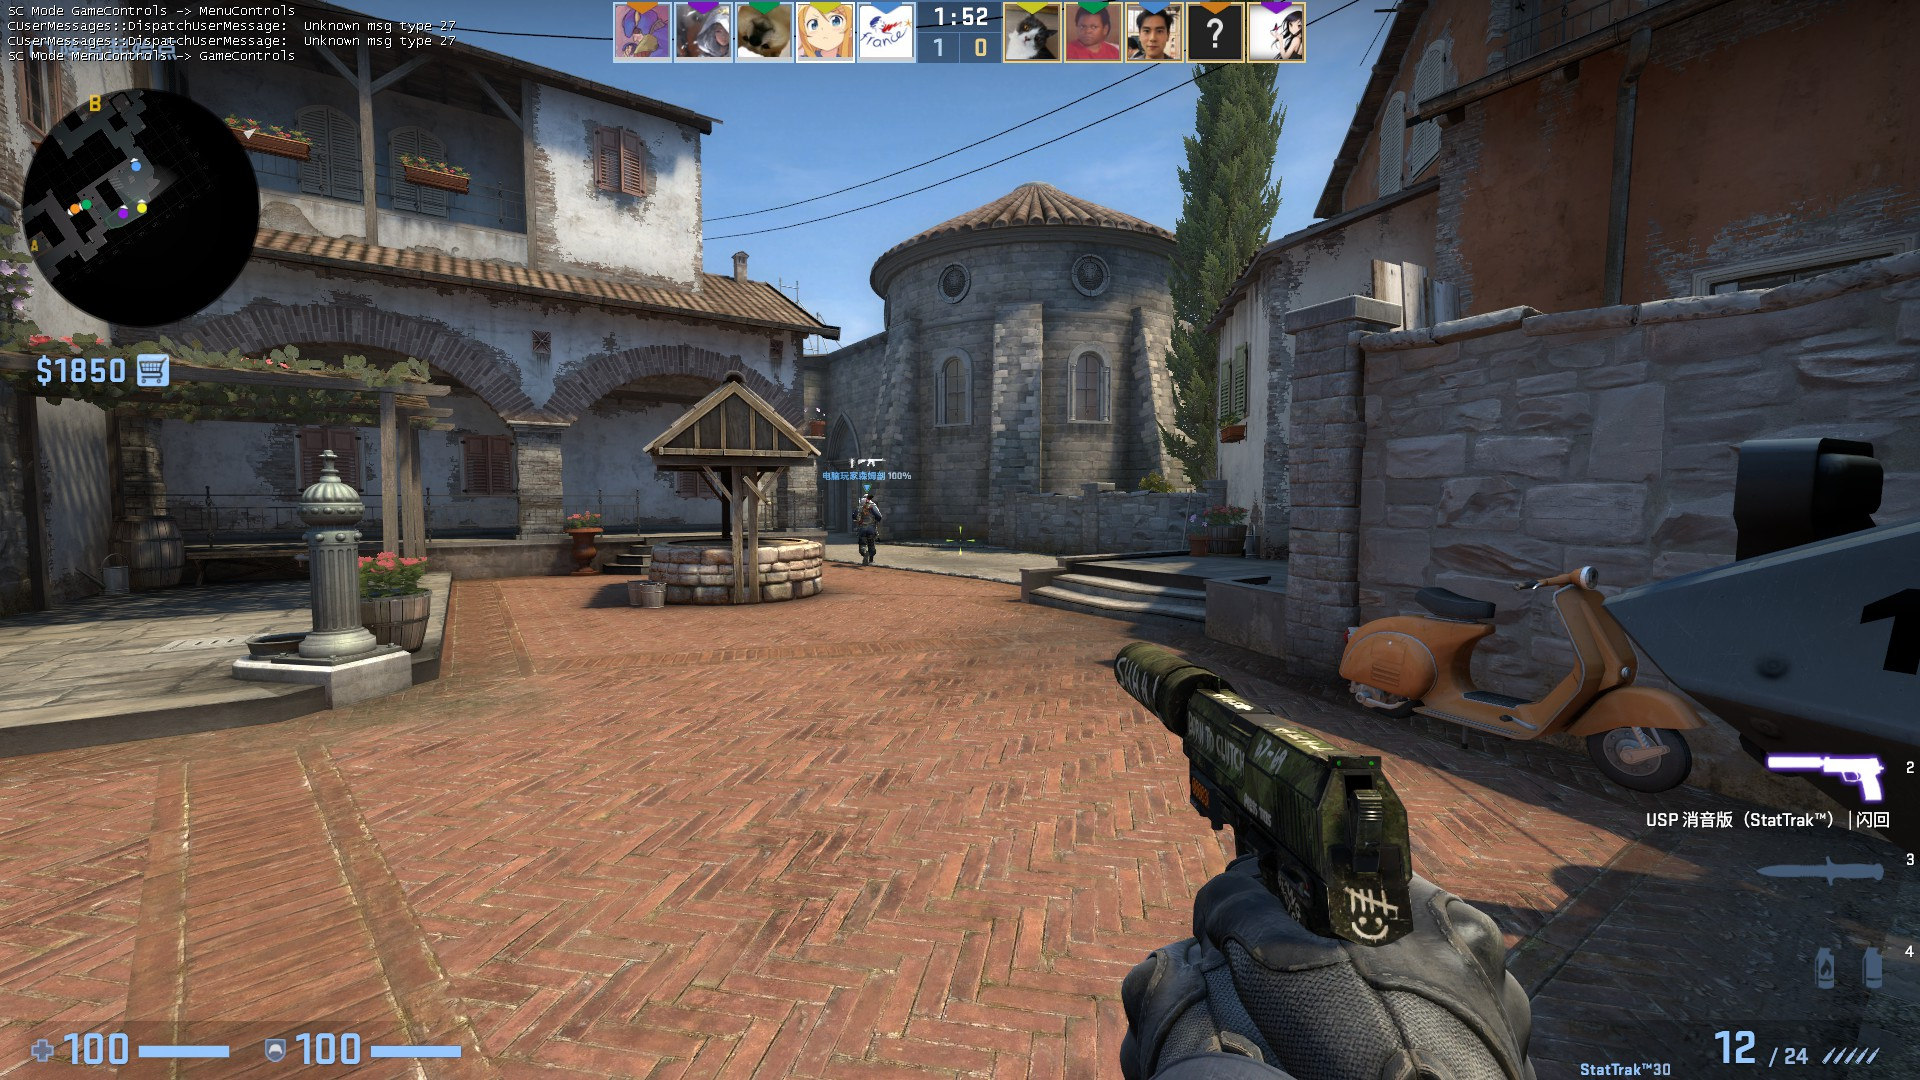head: (856, 492, 873, 505)
